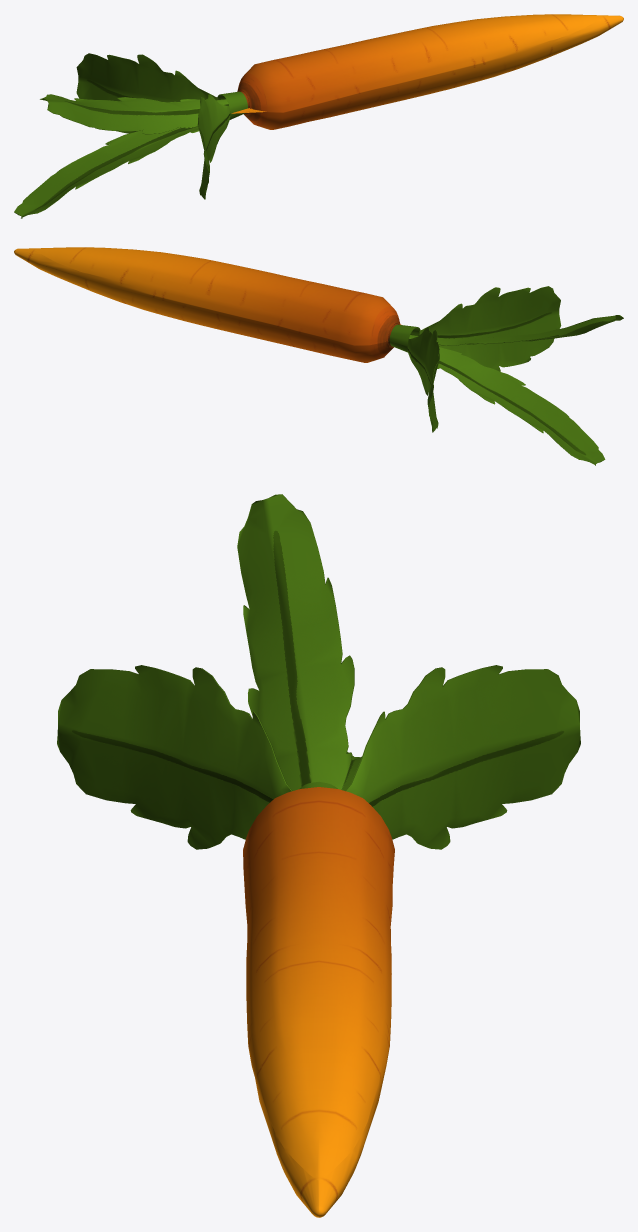
Rendered from Carrot.fbx.
3 renders of one model, top to bottom at view 1: azimuth 30°, elevation 25°; view 2: azimuth 150°, elevation 25°; view 3: azimuth 270°, elevation 25°, orthographic. The views are drawn at different scales.
Visible parts, largest first — view 1: Carrot; view 2: Carrot; view 3: Carrot.
Boxes of the visible parts, x1=… form: Carrot: x1=14, y1=14, x2=623, y2=218; Carrot: x1=14, y1=247, x2=623, y2=465; Carrot: x1=57, y1=494, x2=580, y2=1217.
Bounding box in the file's own units: 5656 × 1201 × 2150.
3 materials, 3 textured.
